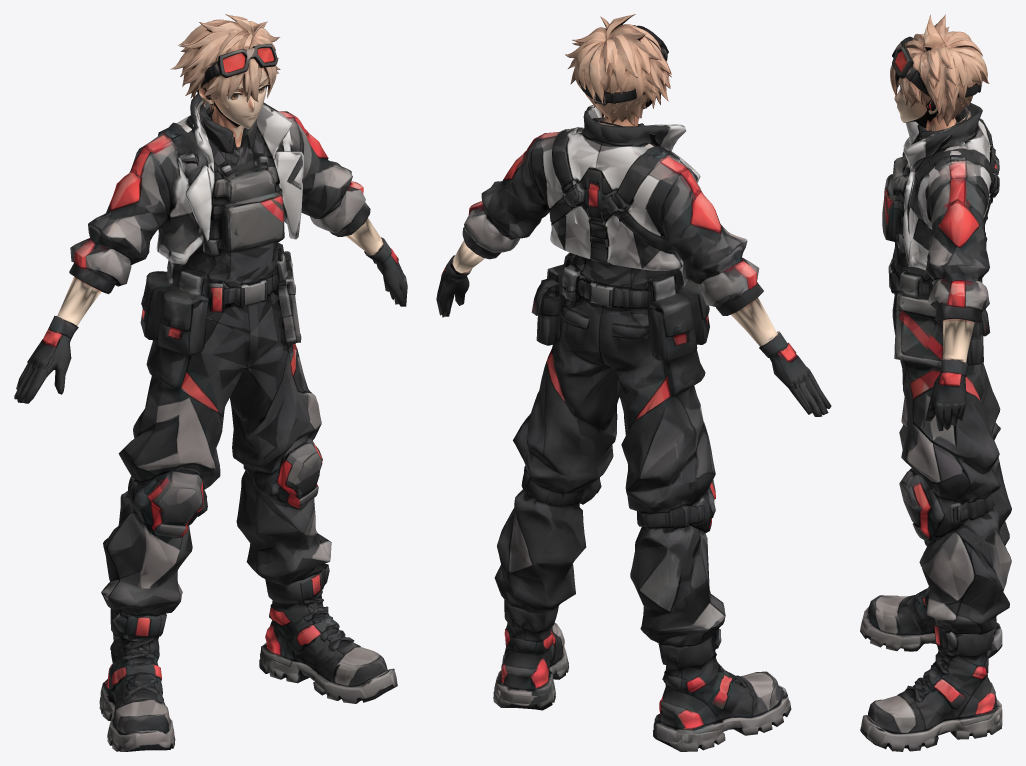
The model's file is HIBANA.fbx.
The picture shows the model from 3 angles, left to right: view 1: azimuth 30°, elevation 25°; view 2: azimuth 150°, elevation 25°; view 3: azimuth 270°, elevation 25°; orthographic projection. The views are drawn at different scales.
Visible parts, largest first — view 1: tripo_part_0, tripo_part_2, tripo_part_3, tripo_part_5, HIBANA_Head, tripo_part_1, tripo_part_6; view 2: tripo_part_0, tripo_part_2, tripo_part_3, tripo_part_1, HIBANA_Head, tripo_part_6, tripo_part_5; view 3: tripo_part_0, tripo_part_6, tripo_part_5, tripo_part_2, HIBANA_Head, tripo_part_1.
Boxes of the visible parts, left/top/right/bottom form: tripo_part_0: left=101, top=242, right=331, bottom=618; tripo_part_2: left=138, top=93, right=303, bottom=314; tripo_part_3: left=14, top=135, right=170, bottom=403; tripo_part_5: left=259, top=564, right=397, bottom=703; HIBANA_Head: left=170, top=14, right=280, bottom=153; tripo_part_1: left=99, top=608, right=175, bottom=751; tripo_part_6: left=279, top=111, right=407, bottom=306; tripo_part_0: left=494, top=252, right=725, bottom=647; tripo_part_2: left=531, top=104, right=700, bottom=315; tripo_part_3: left=658, top=158, right=831, bottom=416; tripo_part_1: left=653, top=628, right=791, bottom=751; HIBANA_Head: left=565, top=14, right=671, bottom=148; tripo_part_6: left=436, top=132, right=555, bottom=317; tripo_part_5: left=493, top=599, right=568, bottom=710; tripo_part_0: left=892, top=271, right=1011, bottom=634; tripo_part_6: left=925, top=166, right=989, bottom=431; tripo_part_5: left=860, top=622, right=1002, bottom=751; tripo_part_2: left=882, top=102, right=999, bottom=293; HIBANA_Head: left=890, top=14, right=989, bottom=160; tripo_part_1: left=860, top=586, right=1002, bottom=658.
Bounding box in the file's own units: 0.5713 × 0.9794 × 0.2013.
Materials: 7 (7 with a texture image).
